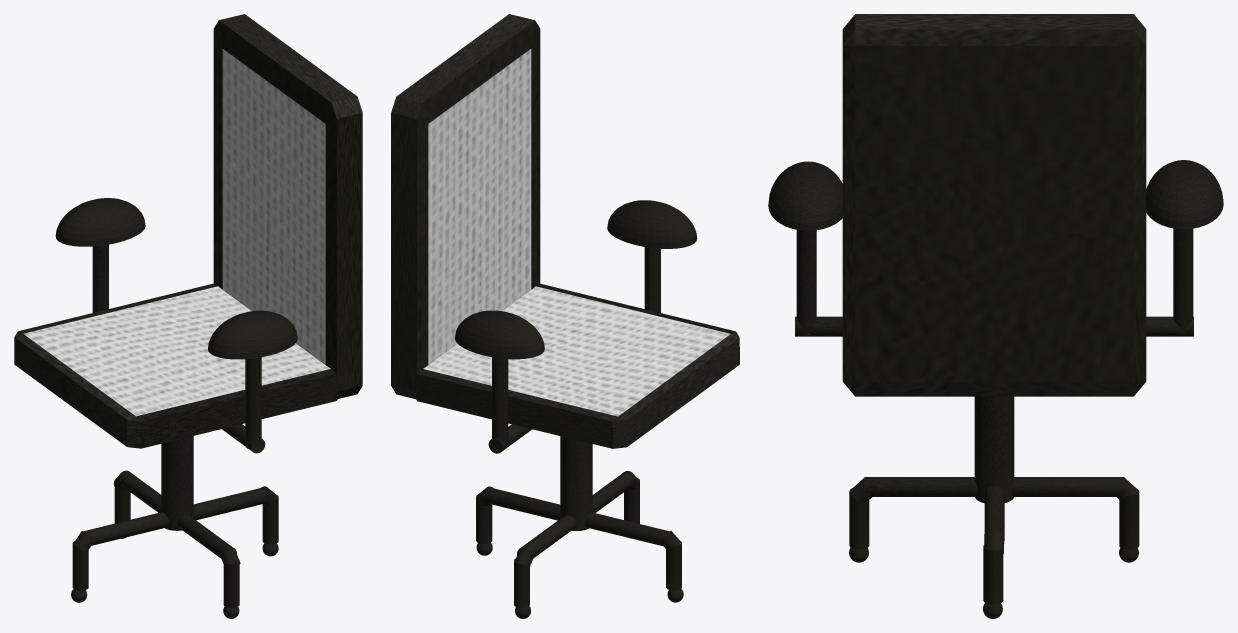
The model's file is SillaOficina2.fbx.
3 renders of one model, left to right at view 1: azimuth 30°, elevation 25°; view 2: azimuth 150°, elevation 25°; view 3: azimuth 270°, elevation 25°, orthographic. The views are drawn at different scales.
Visible parts, largest first — view 1: Cube; view 2: Cube; view 3: Cube.
Boxes of the visible parts, box(x1,y1,x2,y2) form: Cube: box(14, 14, 362, 618); Cube: box(391, 14, 739, 618); Cube: box(768, 14, 1223, 618).
Bounding box in the file's own units: 331 × 671 × 456.
2 materials, 2 textured.
